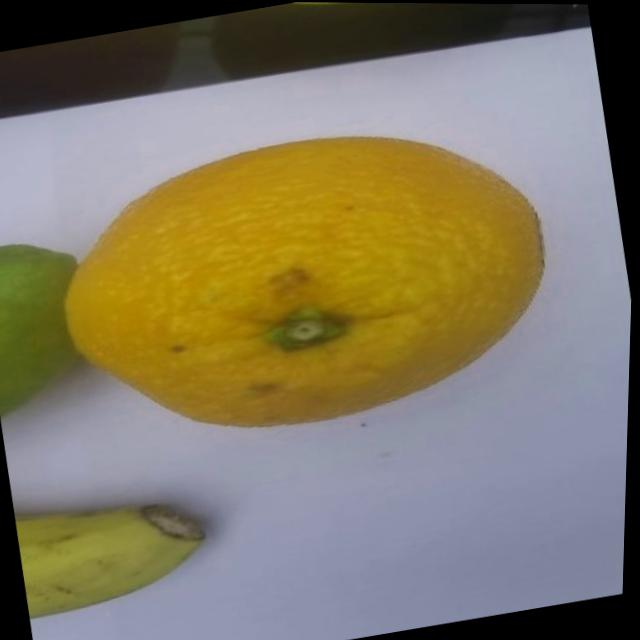Banana: (16, 482, 220, 619)
Orange: (39, 96, 573, 463)
